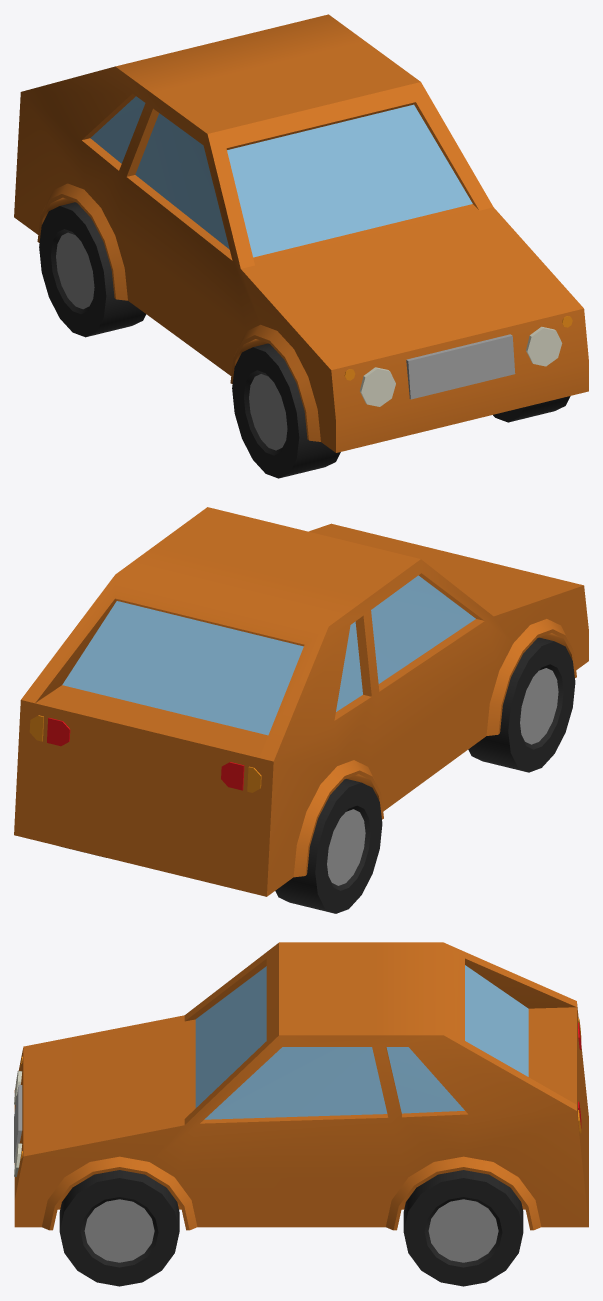
Rendered from car-hatchback-orange.gltf.
3 views of the same model, one above another, from view 1: azimuth 30°, elevation 25°; view 2: azimuth 150°, elevation 25°; view 3: azimuth 270°, elevation 25° (orthographic). The views are drawn at different scales.
Visible parts, largest first — view 1: car-hatchback-orange_Cube.616; view 2: car-hatchback-orange_Cube.616; view 3: car-hatchback-orange_Cube.616.
Boxes of the visible parts, x1,y1,x2,y2 form: car-hatchback-orange_Cube.616: (14,14,588,478); car-hatchback-orange_Cube.616: (14,507,588,913); car-hatchback-orange_Cube.616: (14,942,588,1286).
Size of the model in its own units: 1.78 by 1.65 by 3.61.
